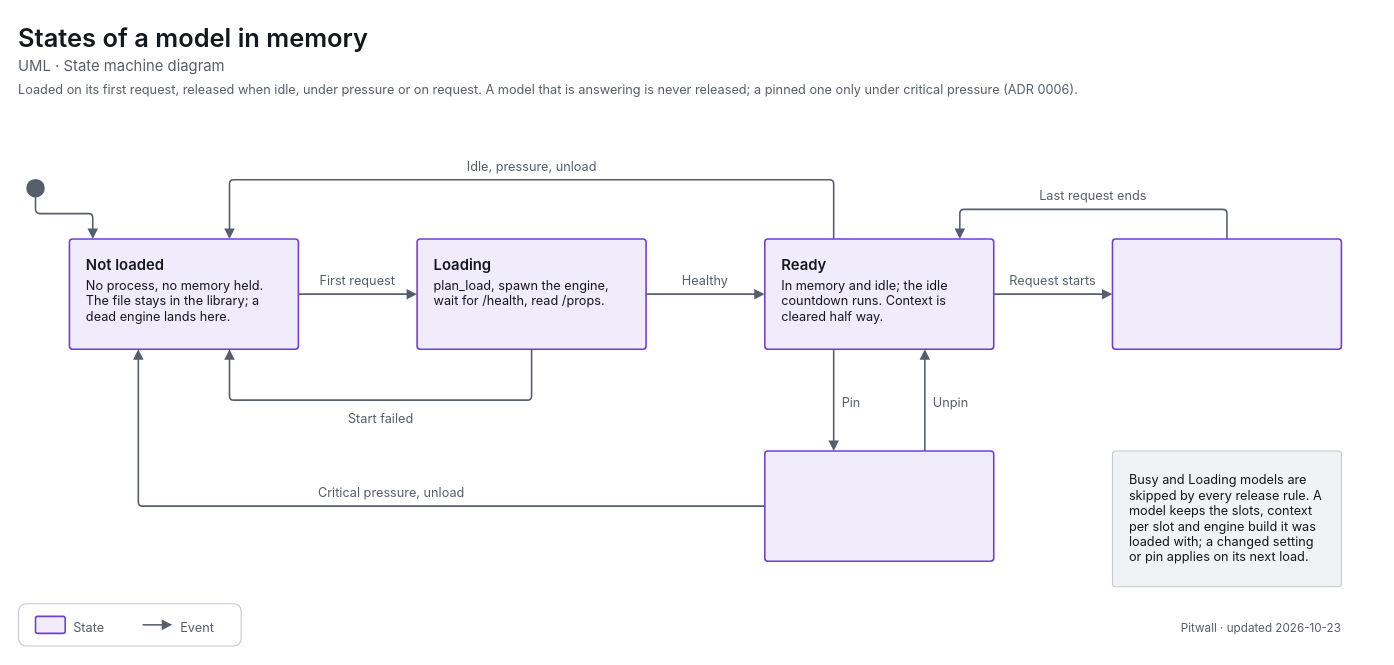
Some shapes in this 1394 by 665 pixel diagram are drawn without their labels. Each missing label, with the centre of its shape:
"Busy Requests are running; never released." goes at pixel 1226 294.
"Ready, pinned “Keep loaded”: the idle rule skips it." goes at pixel 879 506.
